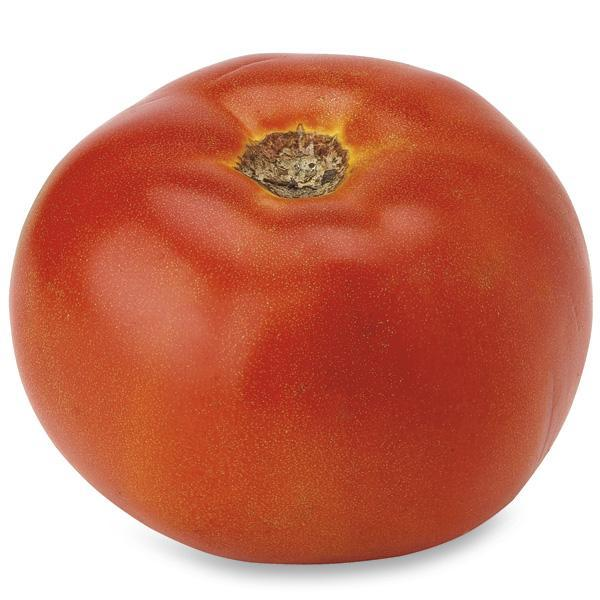healthy-tomato: (16, 54, 594, 564)
